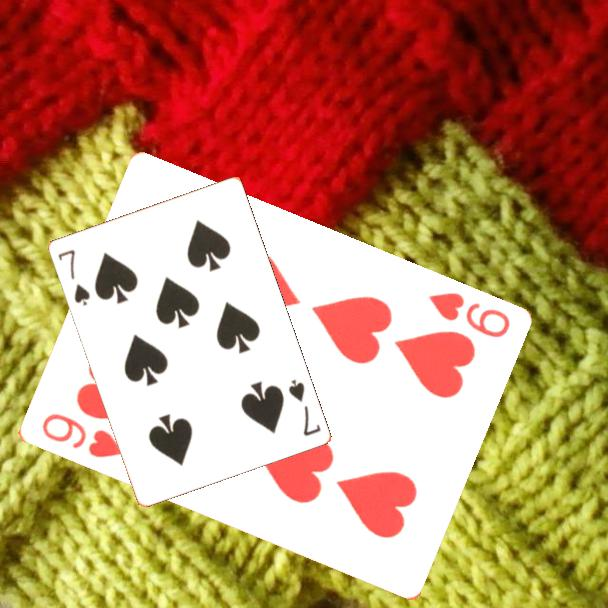h09: (424, 289, 513, 341), (37, 410, 127, 461)
s07: (284, 375, 323, 439), (54, 246, 93, 308)
